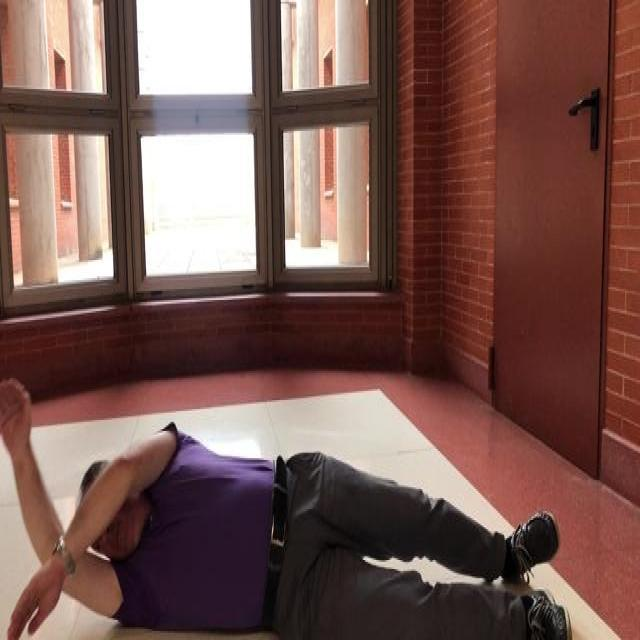fall detected: (1, 336, 584, 640)
